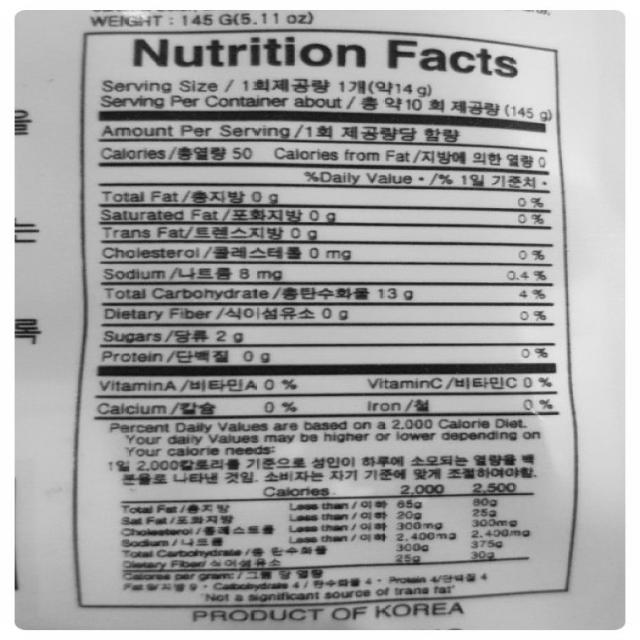Nutrition Label: (85, 32, 589, 485)
